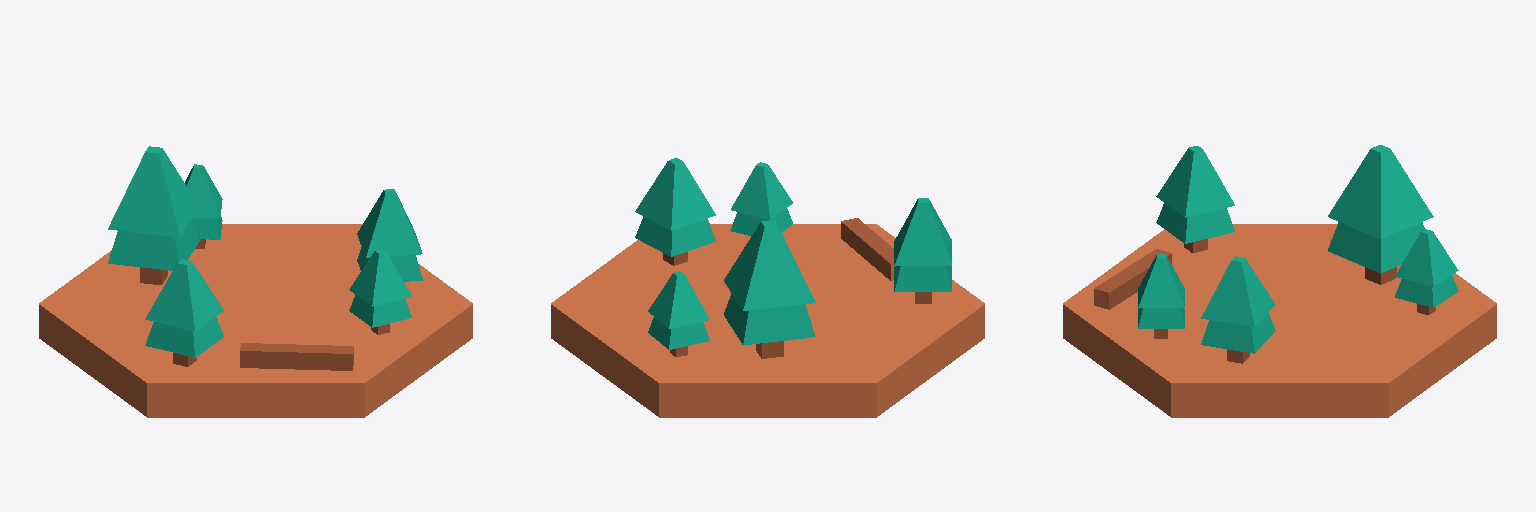
Rendered from dirt_lumber.obj.
The picture shows the model from 3 angles: view 1: azimuth 30°, elevation 25°; view 2: azimuth 150°, elevation 25°; view 3: azimuth 270°, elevation 25°; orthographic projection.
Visible parts, largest first — view 1: dirt_lumber, tree, log; view 2: dirt_lumber, tree, log; view 3: dirt_lumber, tree, log.
Part boxes in pixels (left/top/right/bottom): dirt_lumber: left=39, top=224, right=472, bottom=417; tree: left=108, top=146, right=422, bottom=366; log: left=240, top=343, right=353, bottom=370; dirt_lumber: left=551, top=224, right=984, bottom=417; tree: left=635, top=158, right=951, bottom=358; log: left=841, top=218, right=894, bottom=280; dirt_lumber: left=1063, top=224, right=1496, bottom=417; tree: left=1138, top=145, right=1458, bottom=363; log: left=1094, top=249, right=1171, bottom=309.
Size of the model in its own units: 1 by 0.48 by 1.15.